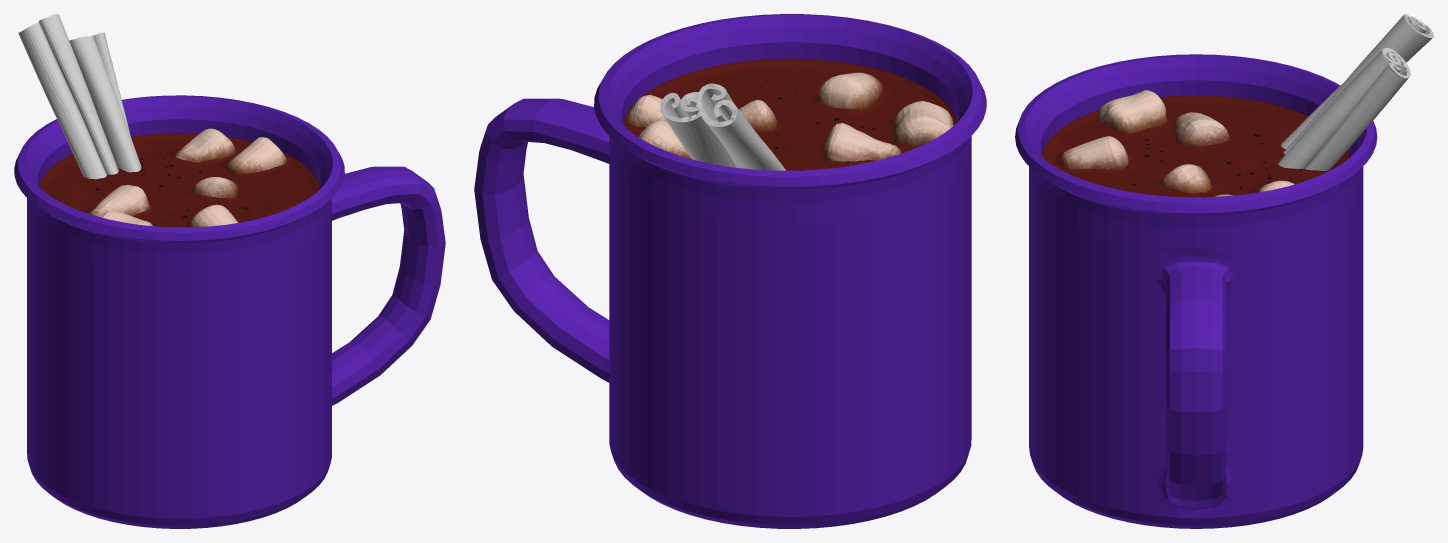
File: Hot_Chocolate_001.obj
The picture shows the model from 3 angles, left to right: view 1: azimuth 30°, elevation 25°; view 2: azimuth 150°, elevation 25°; view 3: azimuth 270°, elevation 25°; orthographic projection. The views are drawn at different scales.
Parts seen in each view (by area): view 1: Mug_001, Liquid_001, Cinnamon_Sticks_001, Marshmallows_001; view 2: Mug_001, Liquid_001, Marshmallows_001, Cinnamon_Sticks_001; view 3: Mug_001, Liquid_001, Cinnamon_Sticks_001, Marshmallows_001.
Boxes of the visible parts, bbox=[...] form: Mug_001: bbox=[14, 95, 445, 528]; Liquid_001: bbox=[39, 133, 320, 227]; Cinnamon_Sticks_001: bbox=[18, 14, 141, 179]; Marshmallows_001: bbox=[88, 128, 286, 227]; Mug_001: bbox=[474, 14, 986, 528]; Liquid_001: bbox=[623, 58, 957, 170]; Marshmallows_001: bbox=[626, 72, 953, 161]; Cinnamon_Sticks_001: bbox=[660, 83, 785, 170]; Mug_001: bbox=[1015, 54, 1377, 528]; Liquid_001: bbox=[1042, 95, 1350, 197]; Cinnamon_Sticks_001: bbox=[1278, 14, 1433, 170]; Marshmallows_001: bbox=[1061, 90, 1294, 196].
Size of the model in its own units: 12.16 by 11.34 by 10.02.
